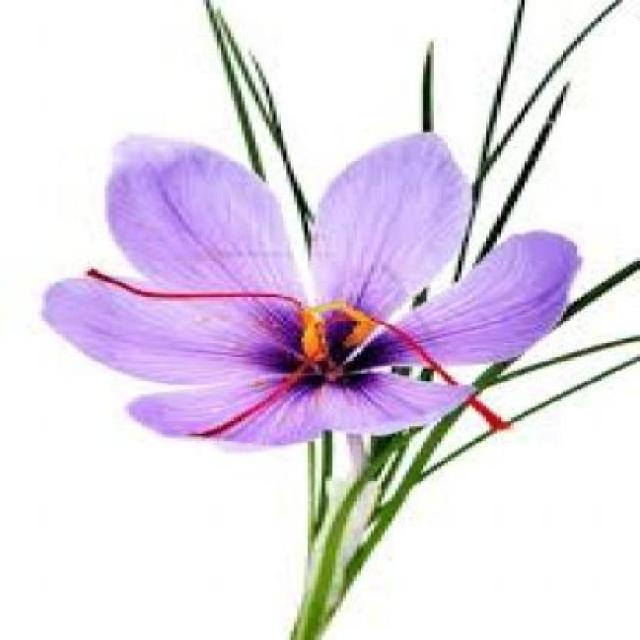saffron open: (45, 134, 579, 444)
